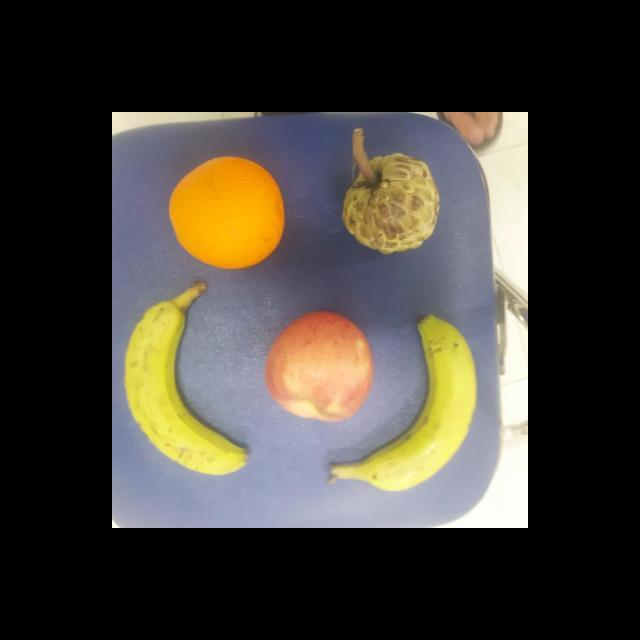Sakya fruit: (341, 154, 439, 255)
apple: (264, 312, 374, 423)
banana: (327, 316, 477, 493), (123, 280, 249, 476)
orange: (168, 156, 286, 271)
